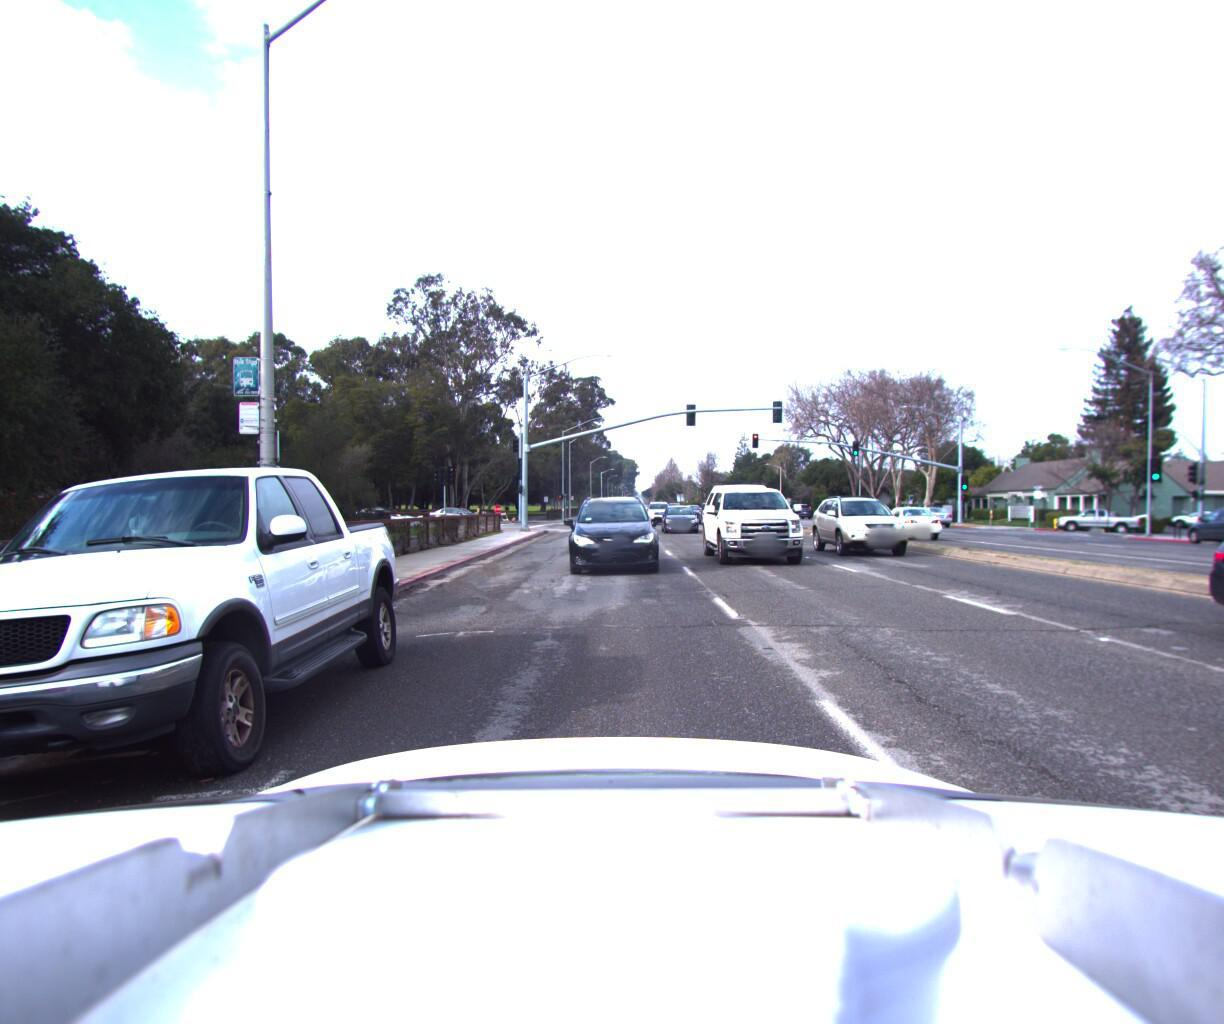car: (703, 469, 822, 573), (817, 486, 937, 557), (568, 490, 657, 575), (873, 500, 943, 537), (1048, 506, 1142, 530), (1176, 503, 1224, 547), (661, 493, 705, 530), (1170, 508, 1224, 529), (908, 504, 947, 523), (642, 495, 669, 520)
